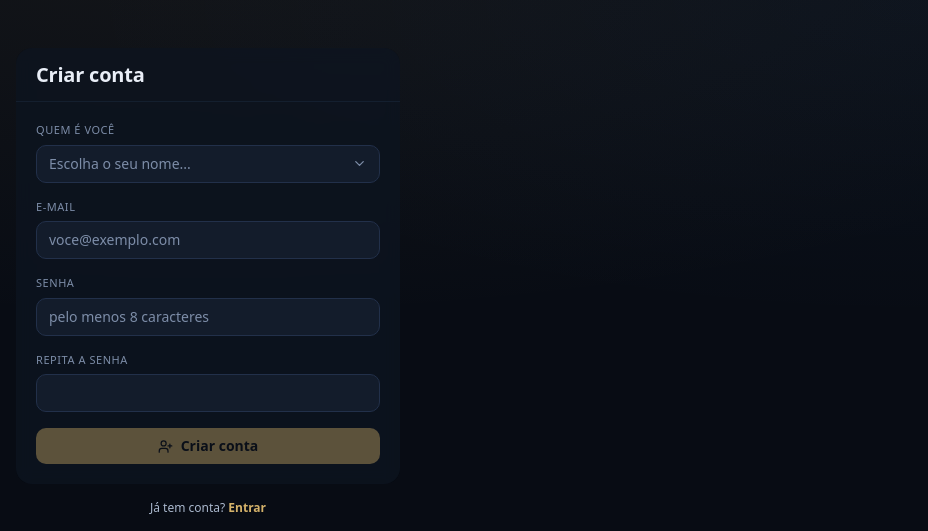
Test: RegisterPage › oferece quem ainda nao tem conta para reivindicar
O Select so monta a lista quando abre -- ate la mostra o placeholder.
Click the dropdown named "escolha o seu jogador": [120, 163] box [36,144,380,182]
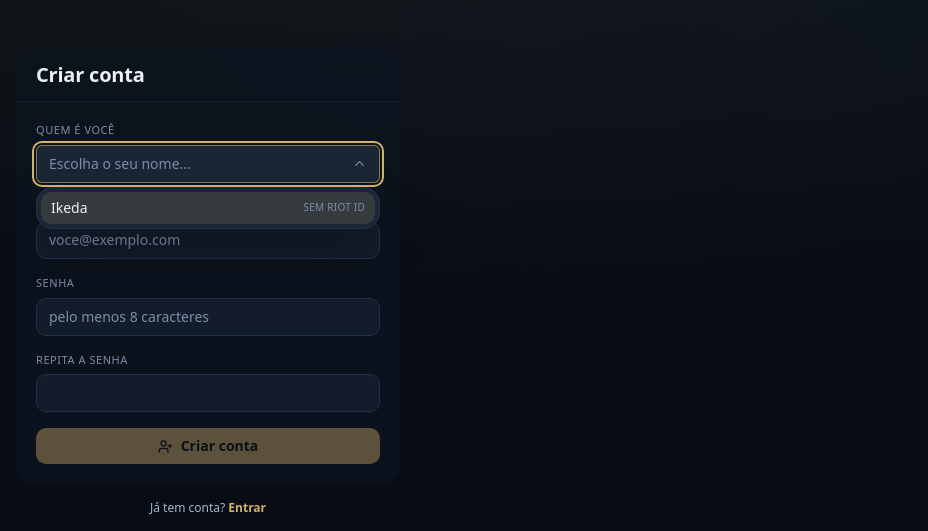
Expected: the option "Ikeda sem Riot ID" is shown, [41,192,375,224]
